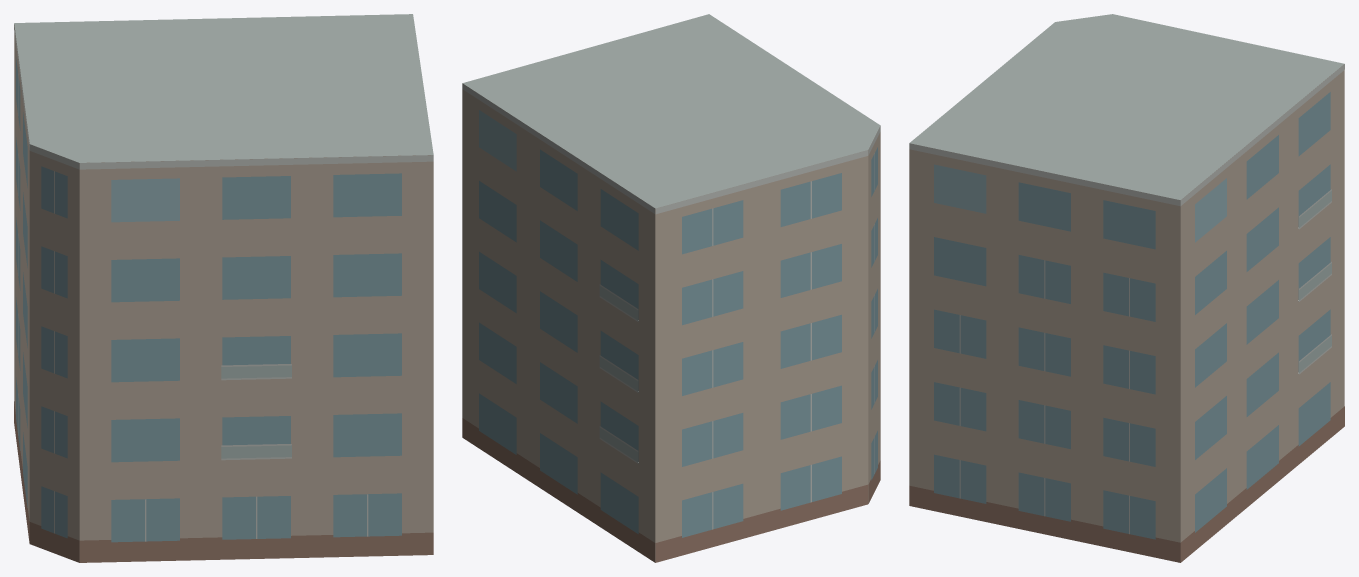
The model's file is survey-upis-32908049.glb.
3 renders of one model, left to right at view 1: azimuth 30°, elevation 25°; view 2: azimuth 150°, elevation 25°; view 3: azimuth 270°, elevation 25°, orthographic. The views are drawn at different scales.
Visible parts, largest first — view 1: survey-upis-32908049.tmp; view 2: survey-upis-32908049.tmp; view 3: survey-upis-32908049.tmp.
Part boxes in pixels (bbox=[...]): survey-upis-32908049.tmp: bbox=[14, 14, 433, 562]; survey-upis-32908049.tmp: bbox=[462, 14, 880, 562]; survey-upis-32908049.tmp: bbox=[909, 14, 1344, 562].
Size of the model in its own units: 16.08 by 14.6 by 15.9.
